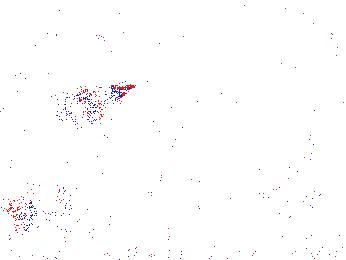flame jellyfish: (55, 82, 134, 137), (5, 172, 79, 226), (265, 154, 324, 214)
